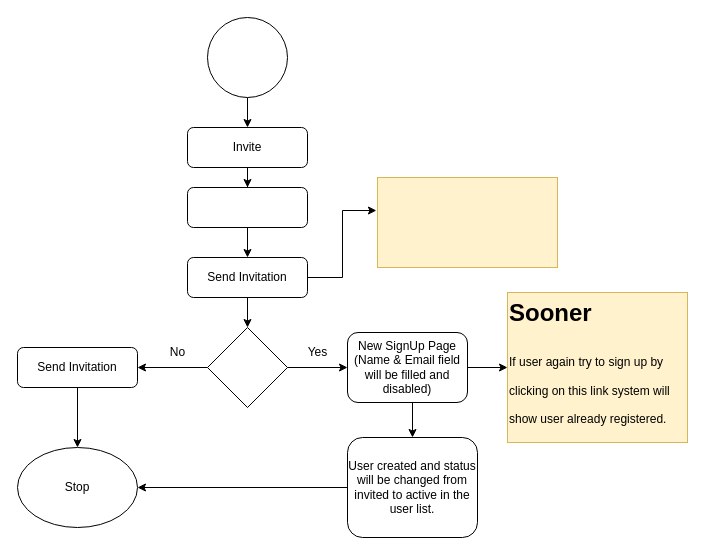
The diagram is 705 pixels wide and 555 high, and some of its shapes have lost their labels. Here are the shapes that lost their labels. From the top down, the box of each, then its label:
(206, 16, 288, 98): Start
(186, 186, 308, 228): Enter Name & Email
(376, 176, 558, 268): Invitation Invitation deadline will be 7 days
(206, 326, 288, 408): Invitation
